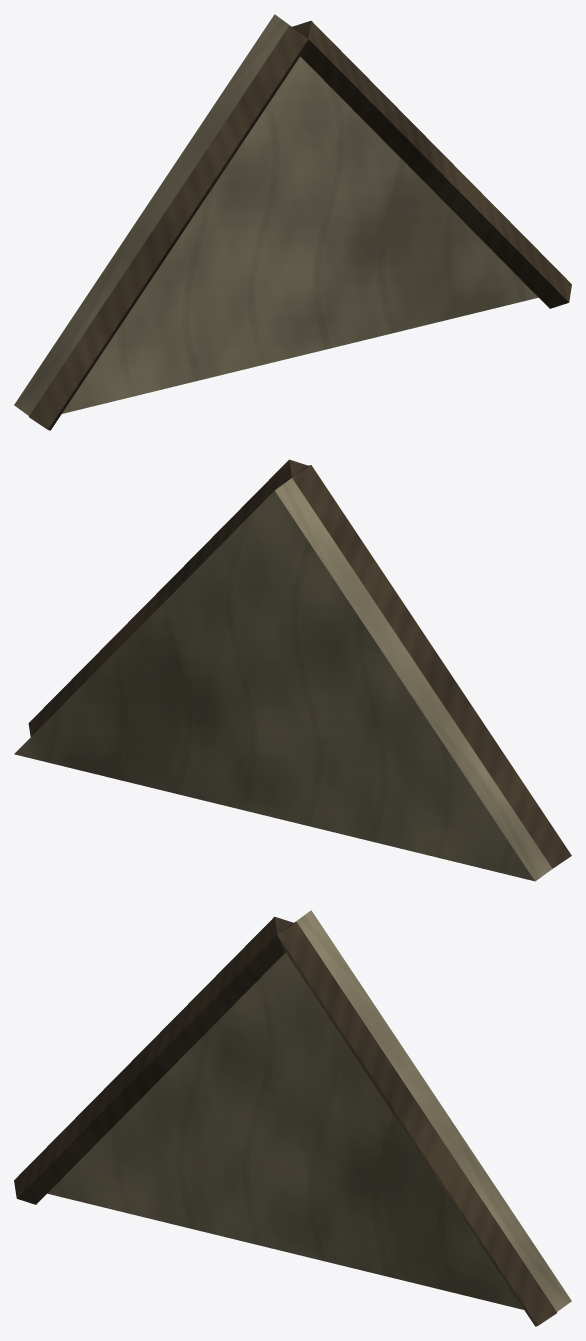
The model's file is Gable_Triangle_2m.glb.
3 renders of one model, top to bottom at view 1: azimuth 30°, elevation 25°; view 2: azimuth 150°, elevation 25°; view 3: azimuth 330°, elevation 25°, orthographic.
Parts seen in each view (by area): view 1: Gable_Triangle_2m; view 2: Gable_Triangle_2m; view 3: Gable_Triangle_2m.
Boxes of the visible parts, x1,y1,x2,y2 form: Gable_Triangle_2m: [14, 14, 571, 430]; Gable_Triangle_2m: [14, 459, 571, 881]; Gable_Triangle_2m: [14, 910, 571, 1326].
Size of the model in its own units: 2.08 by 1.27 by 0.225.
Materials: 2 (2 with a texture image).
